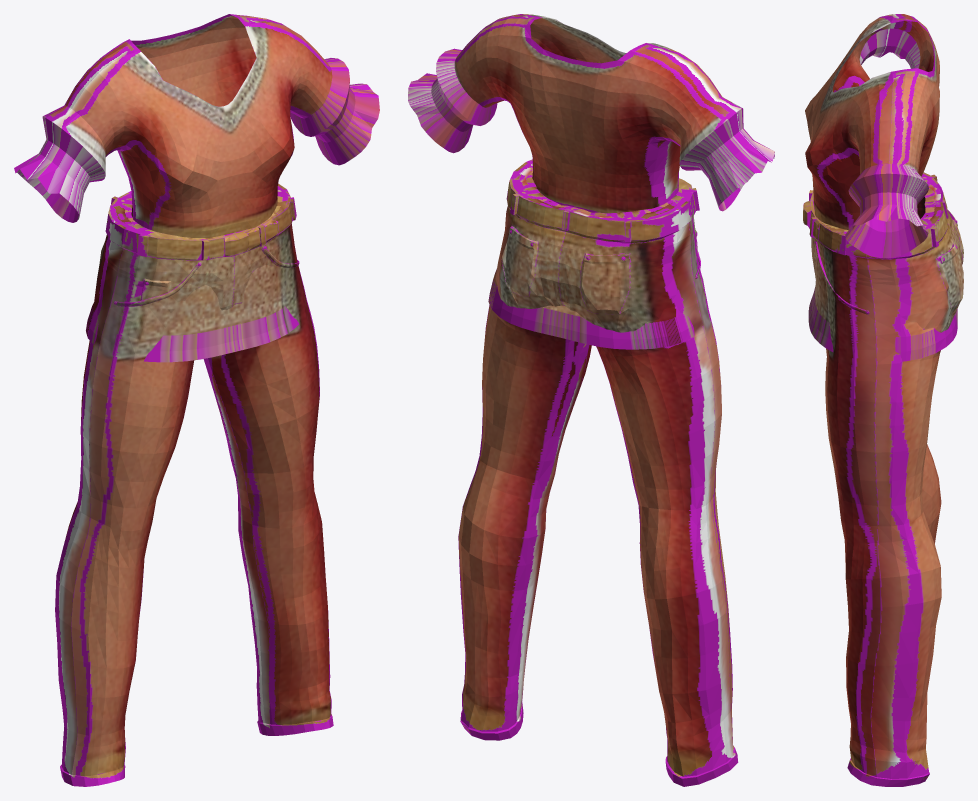
3 renders of one model, left to right at view 1: azimuth 30°, elevation 25°; view 2: azimuth 150°, elevation 25°; view 3: azimuth 270°, elevation 25°, orthographic. The views are drawn at different scales.
Size of the model in its own units: 0.455 by 0.8922 by 0.1883.
Materials: 1 (1 with a texture image).
